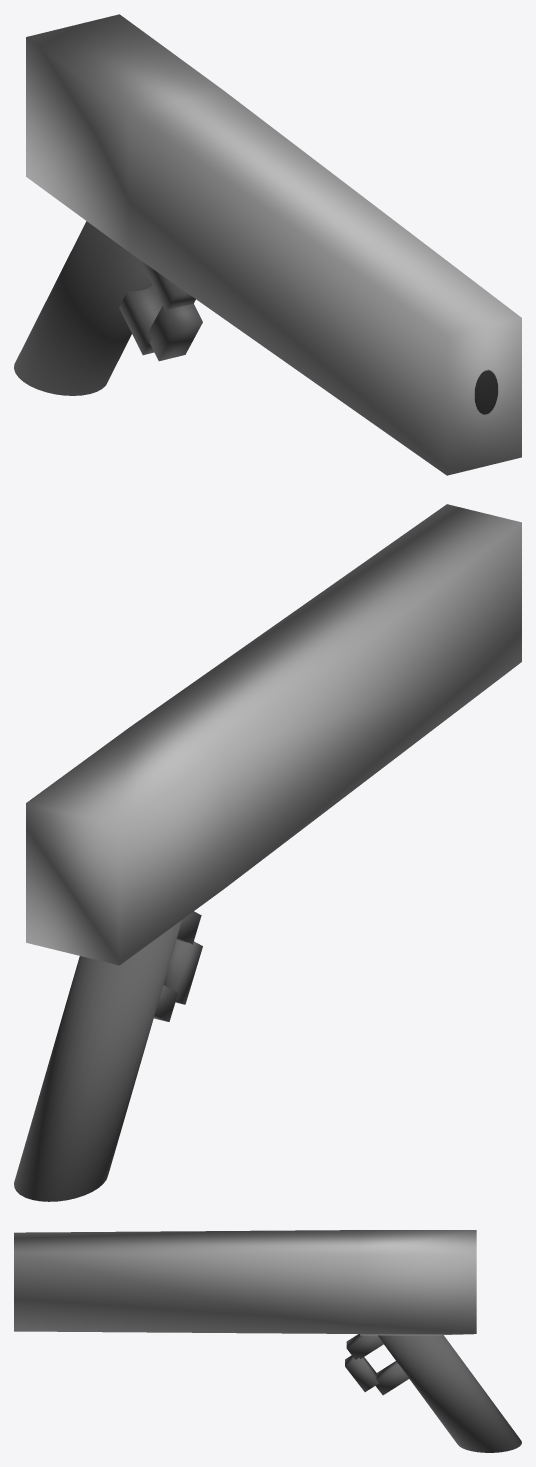
Rendered from shotgun.fbx.
3 renders of one model, top to bottom at view 1: azimuth 30°, elevation 25°; view 2: azimuth 150°, elevation 25°; view 3: azimuth 270°, elevation 25°, orthographic. The views are drawn at different scales.
Parts seen in each view (by area): view 1: Cylinder; view 2: Cylinder; view 3: Cylinder.
Part boxes in pixels (bbox=[...]): Cylinder: bbox=[14, 14, 521, 475]; Cylinder: bbox=[14, 504, 521, 1201]; Cylinder: bbox=[14, 1230, 521, 1452].
Size of the model in its own units: 0.3516 by 1.28 by 2.94.
